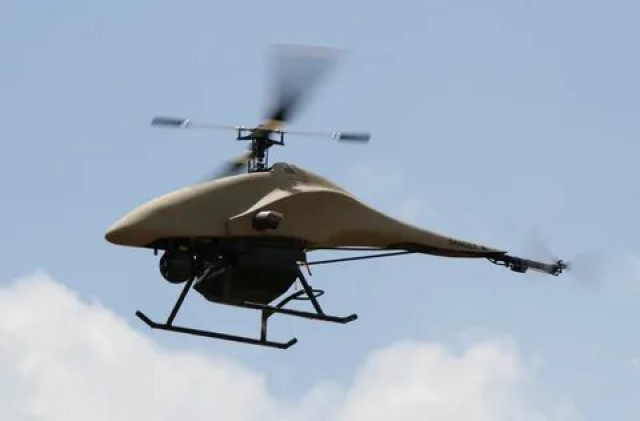military drone: (104, 42, 566, 349)
